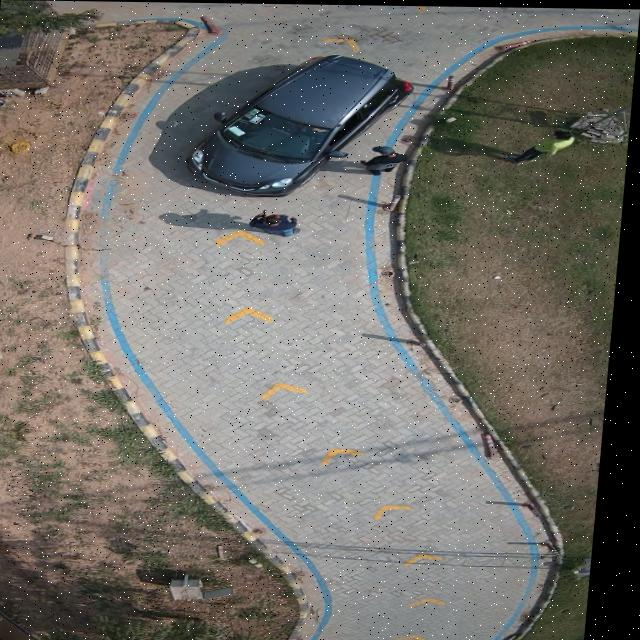car: (189, 54, 412, 196)
